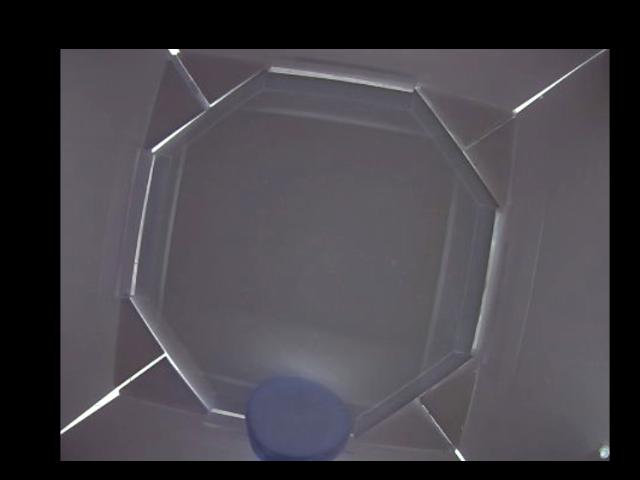Mooli: (244, 375, 347, 460)
